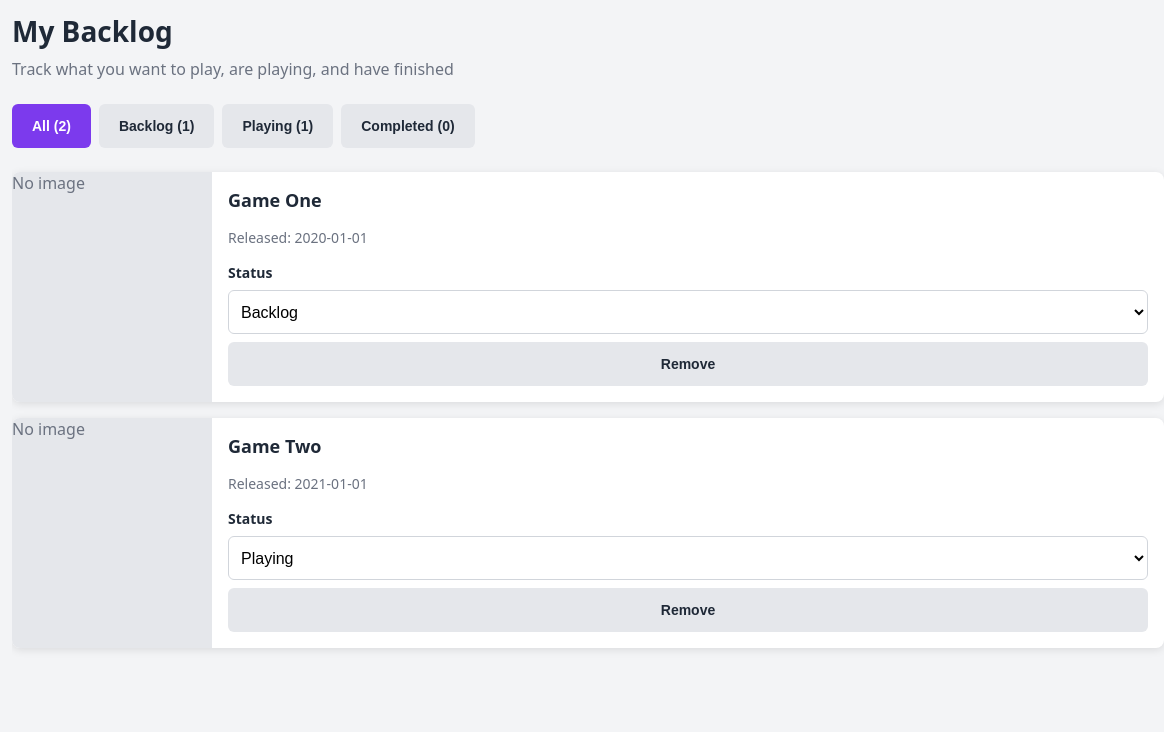
Test: BacklogPage › filters games by status
This screenshot has width=1164, height=732.
Step 1. Click the button "Playing (1)" → [278, 126], box [222, 104, 333, 148]
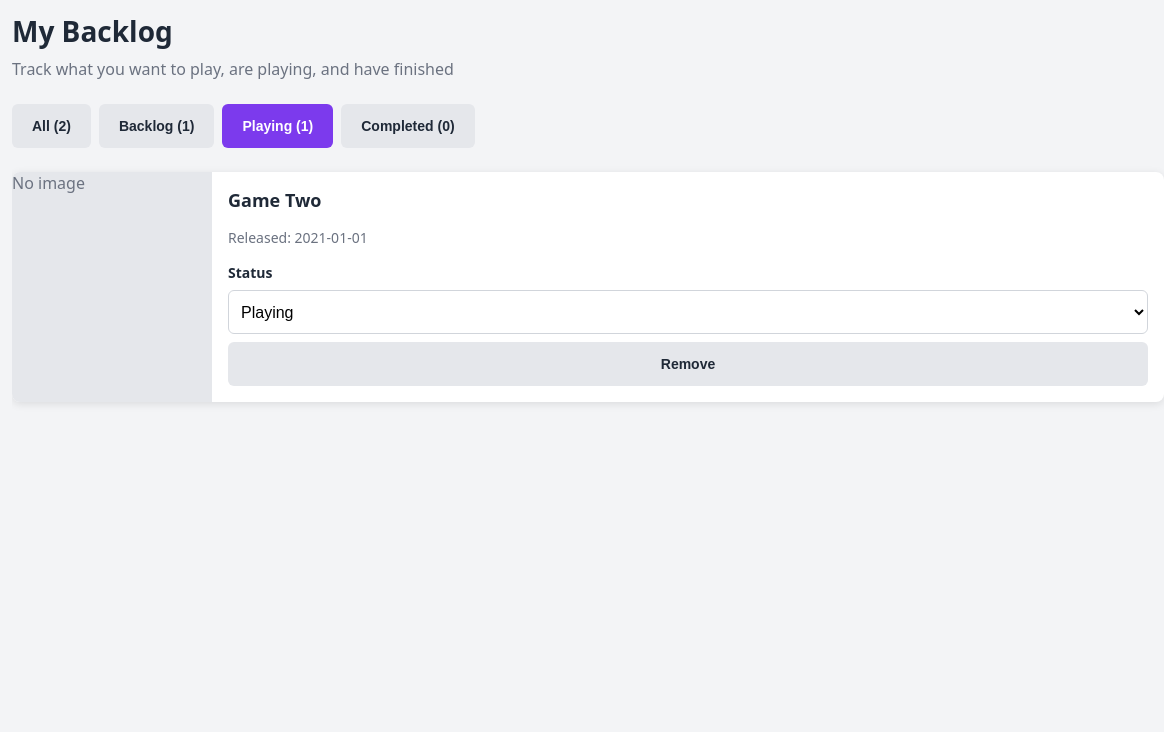
Expected: the link "Game Two" is shown, [228, 188, 322, 212]
Result: the link "Game One" is gone
